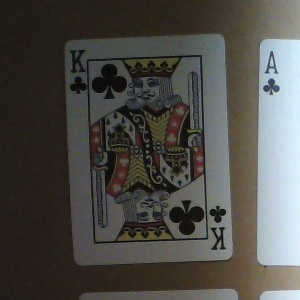card: (63, 33, 236, 267)
